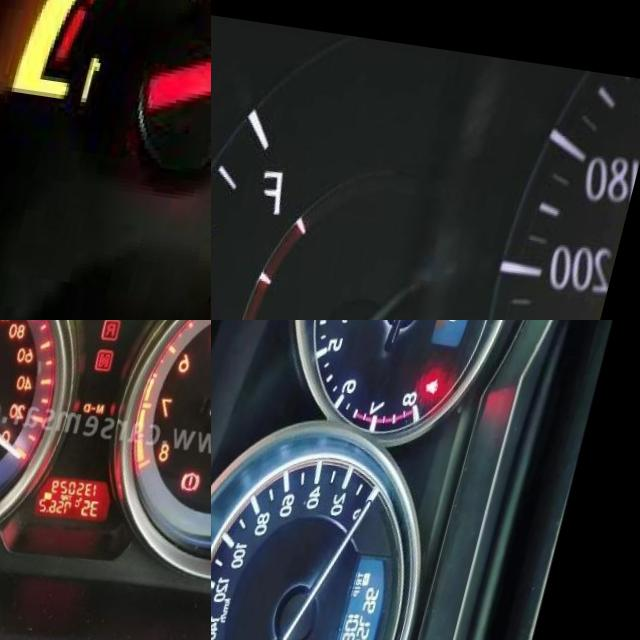Seat Belt: (428, 364, 445, 384)
